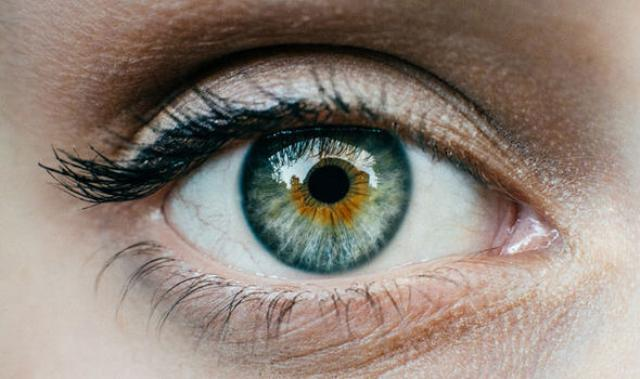eye: (244, 129, 412, 273)
